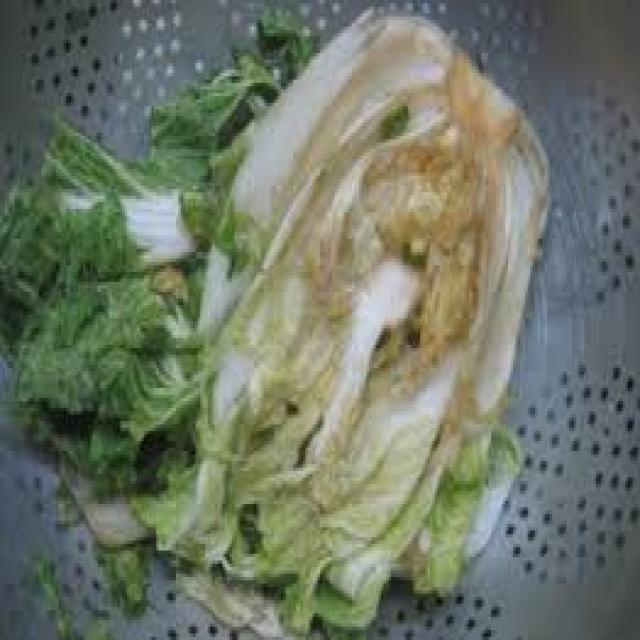food_waste: (0, 10, 545, 637)
